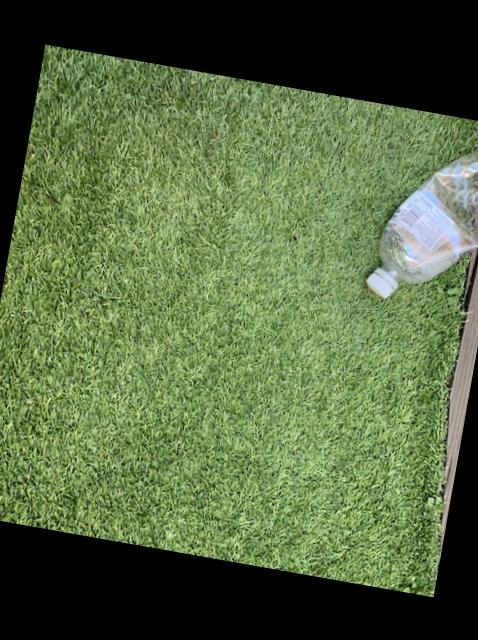plastic: (368, 150, 478, 295)
